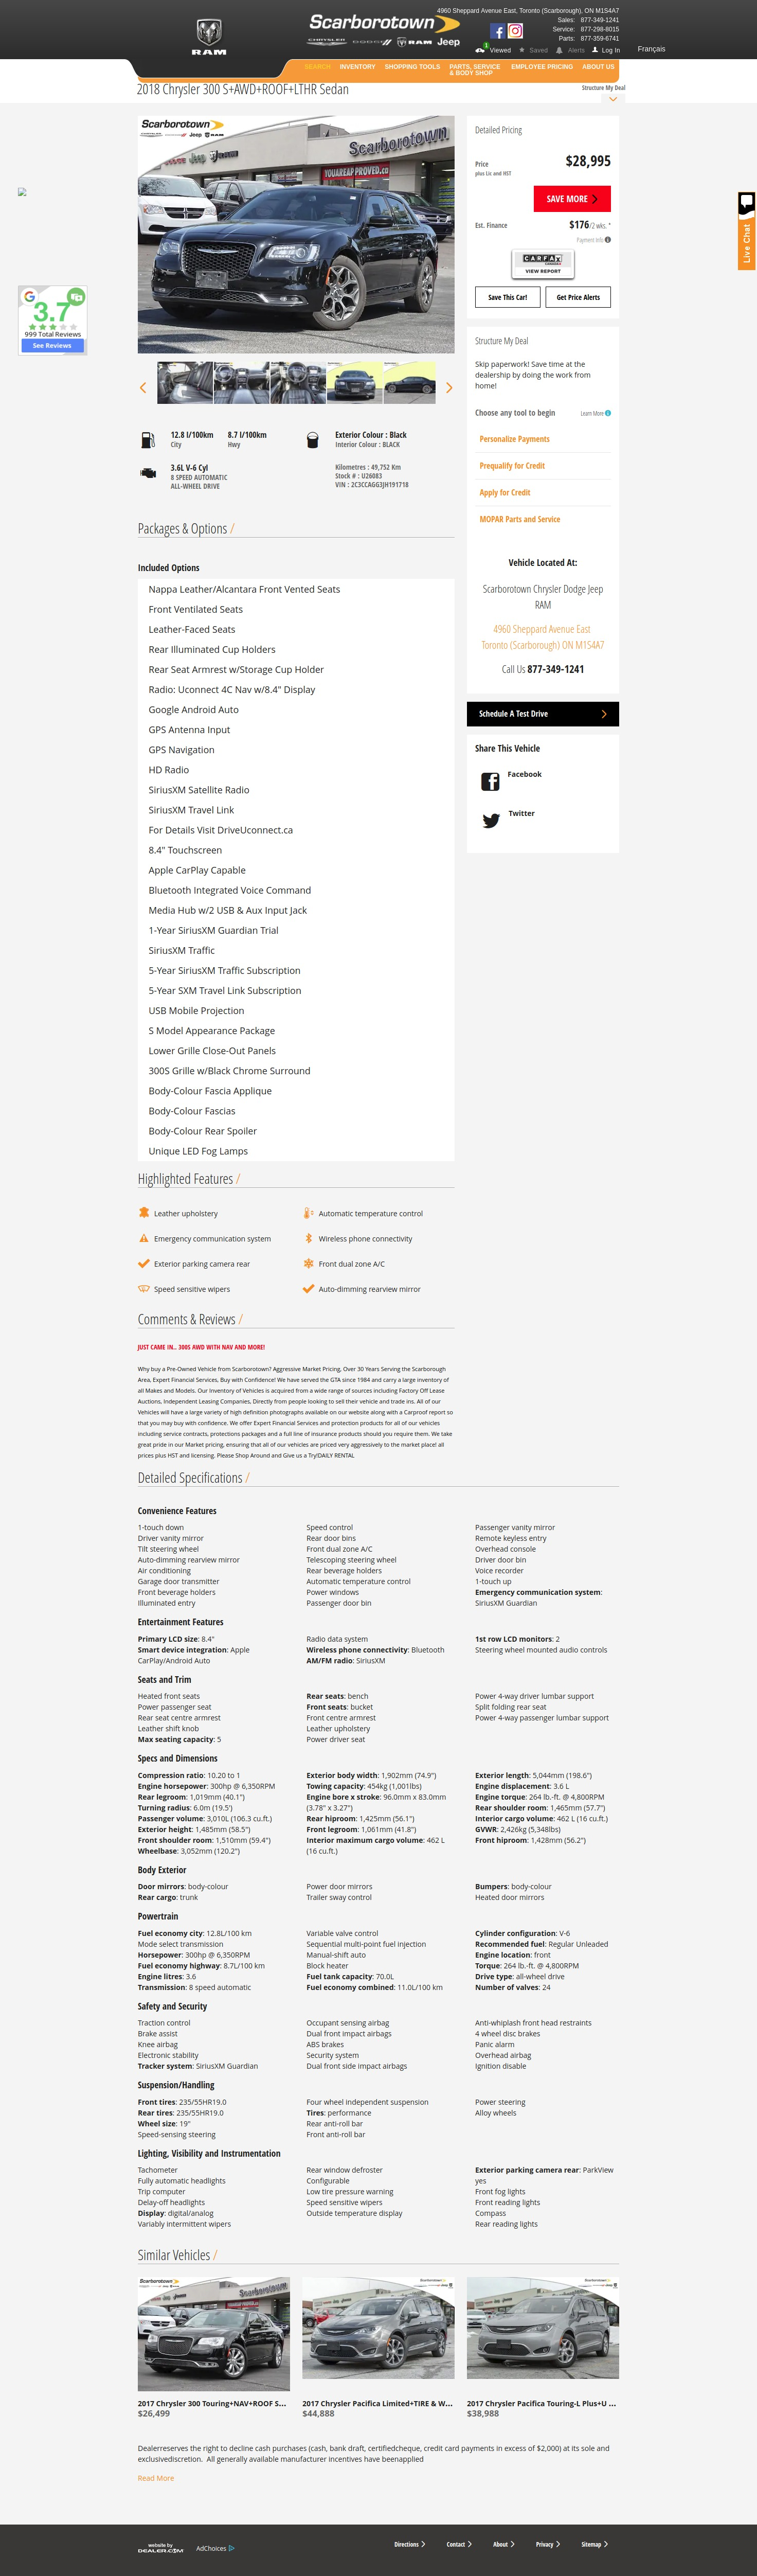car: (447, 383, 453, 394)
